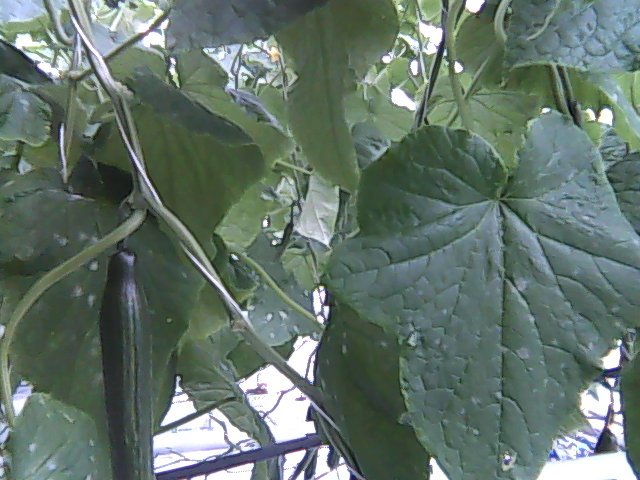concombre: (94, 241, 162, 480)
